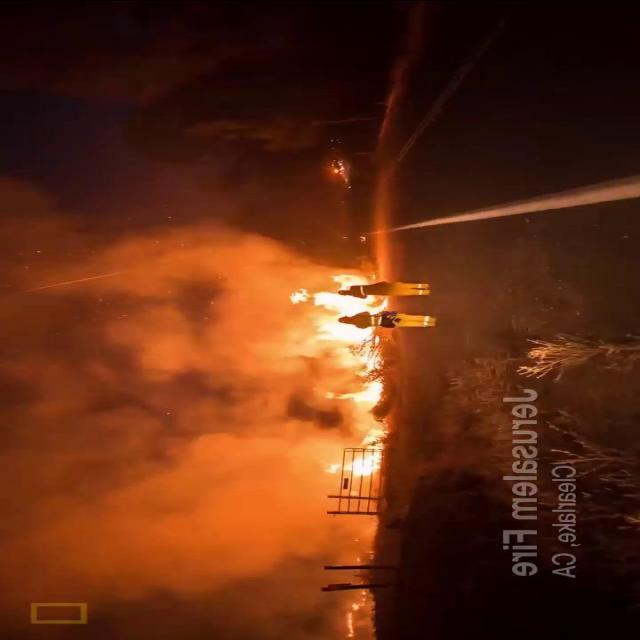Fire: (295, 277, 387, 403), (327, 429, 385, 478), (344, 592, 364, 636), (328, 157, 348, 175)
